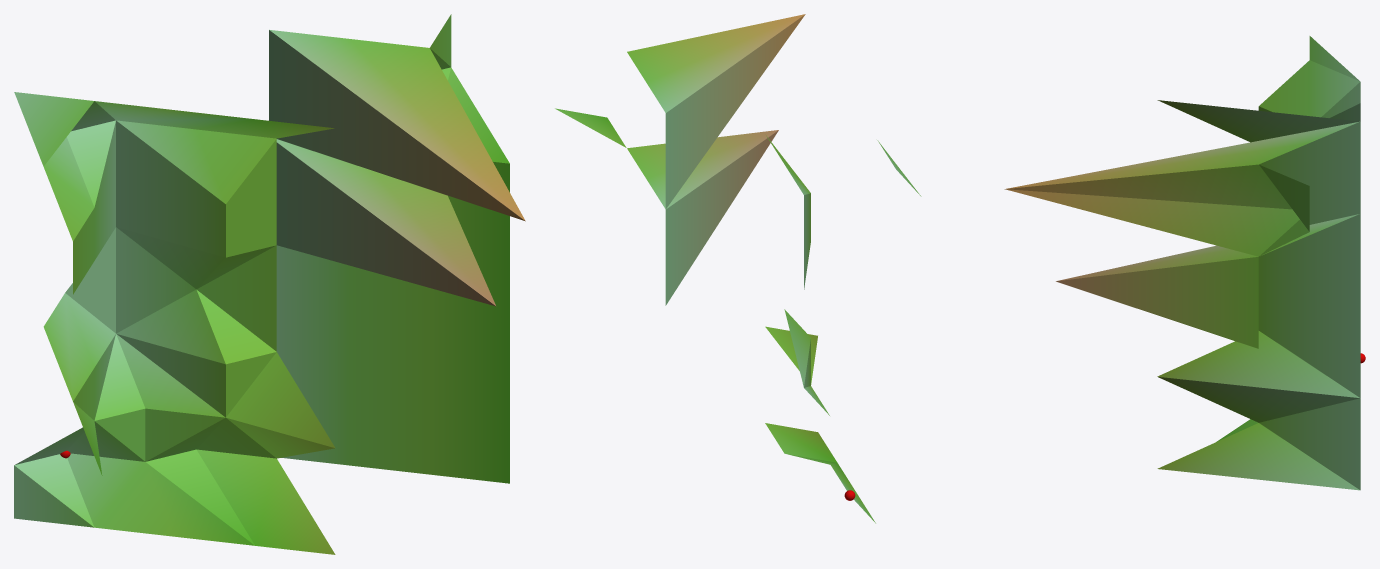
The model's file is terrain_with_point.glb.
The picture shows the model from 3 angles, left to right: view 1: azimuth 30°, elevation 25°; view 2: azimuth 150°, elevation 25°; view 3: azimuth 270°, elevation 25°; orthographic projection. The views are drawn at different scales.
Visible parts, largest first — view 1: world; view 2: world; view 3: world.
Part boxes in pixels (x1,y1,x2,y2): world: (14,14,525,554); world: (555,14,921,523); world: (1004,36,1365,490).
Bounding box in the file's own units: 8 × 8 × 7.1.
